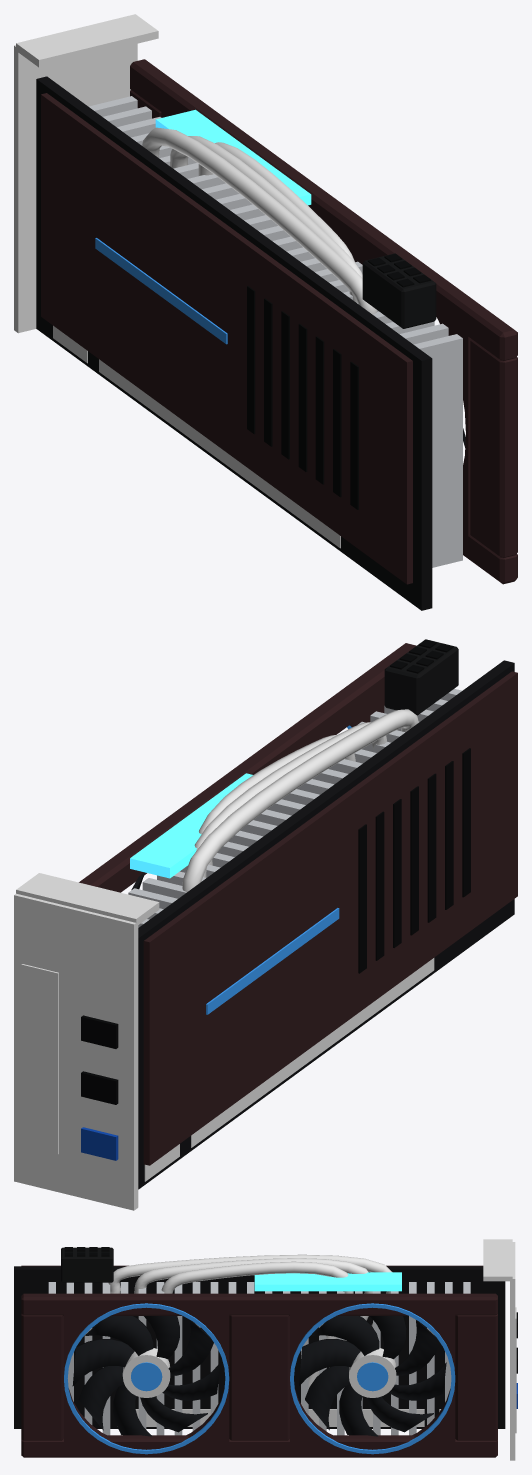
File: hw_gpu_rtx3060.glb
3 views of the same model, one above another, from view 1: azimuth 30°, elevation 25°; view 2: azimuth 150°, elevation 25°; view 3: azimuth 270°, elevation 25° (orthographic). The views are drawn at different scales.
Visible parts, largest first — view 1: Body; view 2: Body; view 3: Body, Rotor_X_1, Rotor_X_0.
Boxes of the visible parts, x1=… form: Body: x1=14, y1=14, x2=517, y2=610; Body: x1=14, y1=639, x2=517, y2=1210; Body: x1=14, y1=1239, x2=517, y2=1460; Rotor_X_1: x1=72, y1=1316, x2=220, y2=1436; Rotor_X_0: x1=299, y1=1316, x2=446, y2=1436.
Size of the model in its own units: 0.0366 by 0.0847 by 0.2063.
